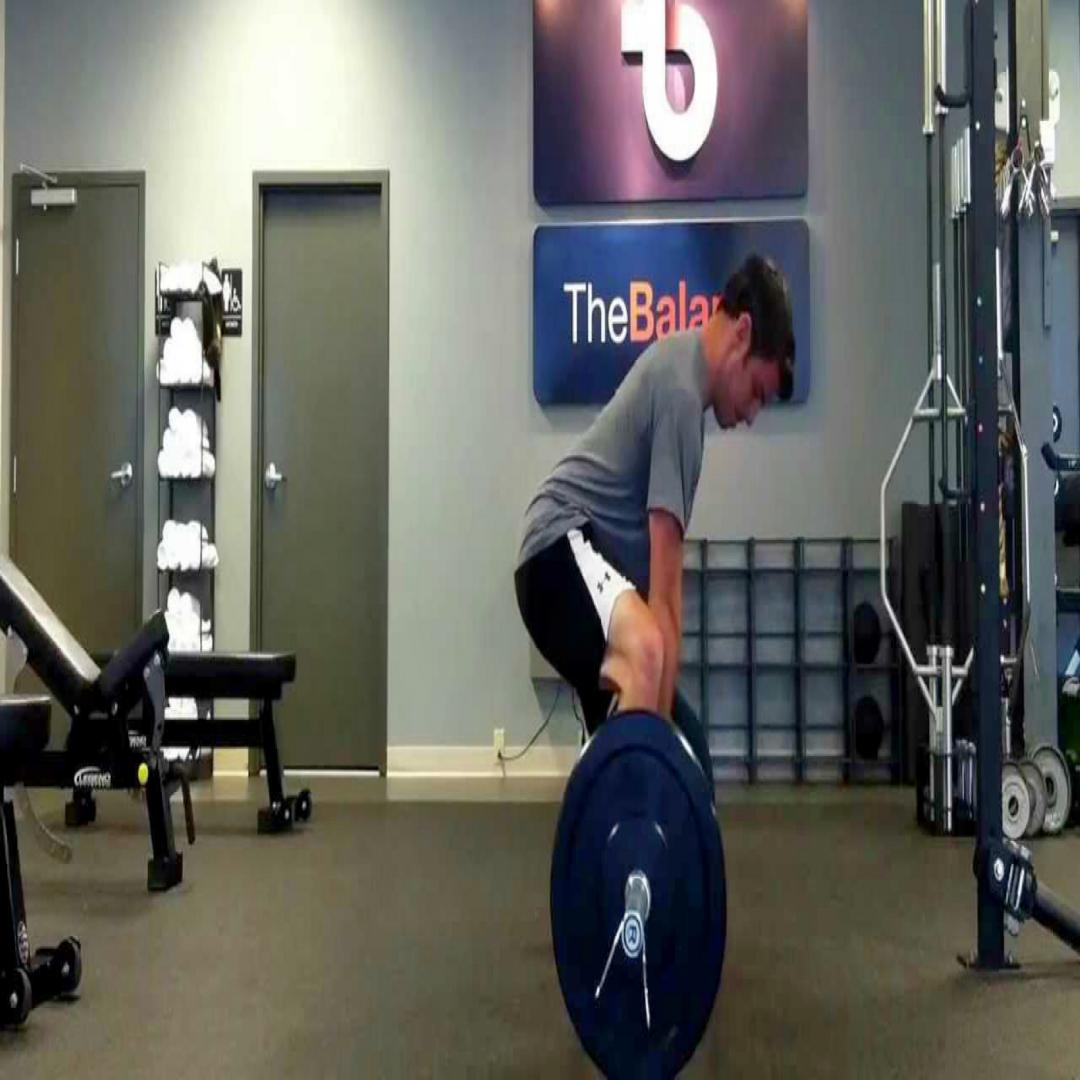Bar: (621, 908, 644, 963)
Barbell: (551, 712, 726, 1078)
